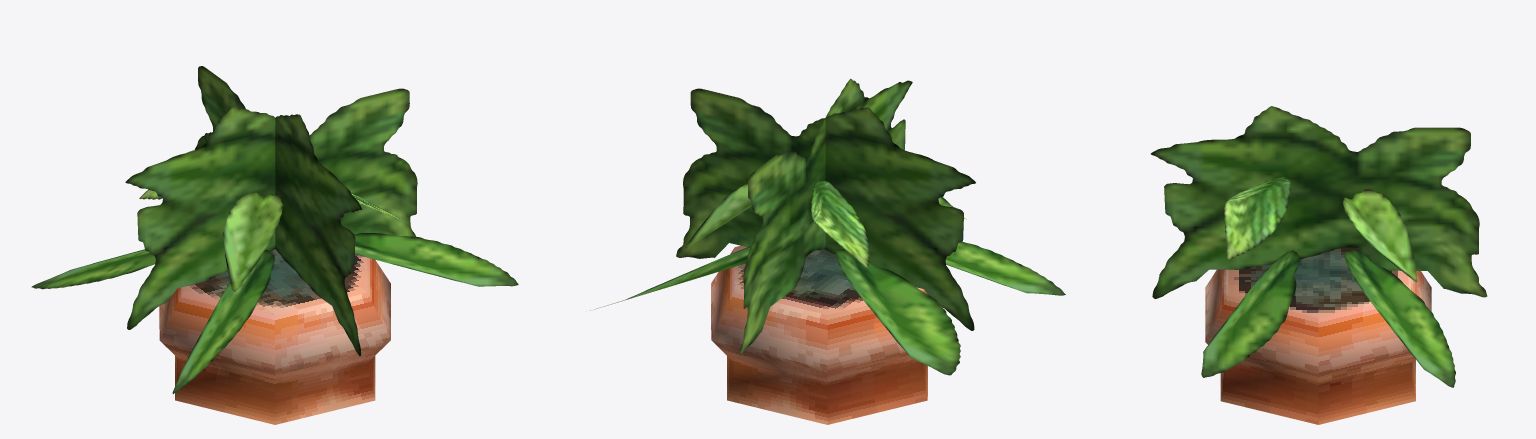
File: Plant2.glb
3 renders of one model, left to right at view 1: azimuth 30°, elevation 25°; view 2: azimuth 150°, elevation 25°; view 3: azimuth 270°, elevation 25°, orthographic. The views are drawn at different scales.
Visible parts, largest first — view 1: PLANT2; view 2: PLANT2; view 3: PLANT2.
Boxes of the visible parts, x1=… form: PLANT2: x1=31, y1=66, x2=518, y2=424; PLANT2: x1=595, y1=78, x2=1065, y2=424; PLANT2: x1=1151, y1=106, x2=1487, y2=424.
Size of the model in its own units: 1.11 by 0.634 by 0.836.
2 materials, 2 textured.
